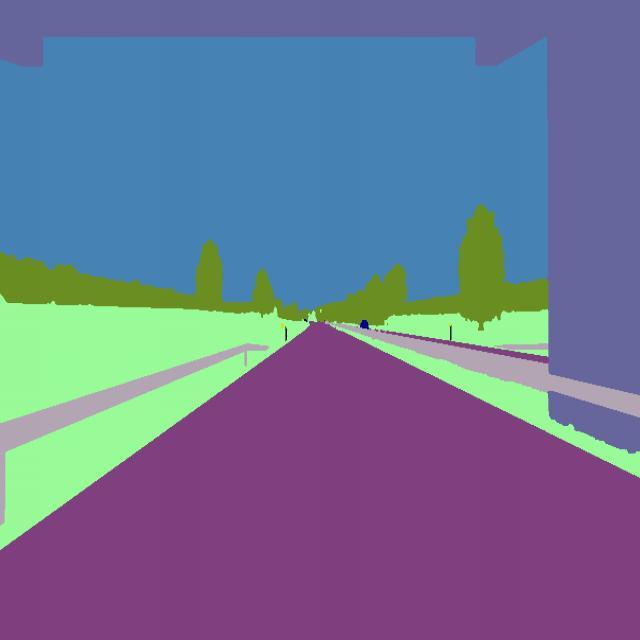safe: (358, 316, 373, 332)
